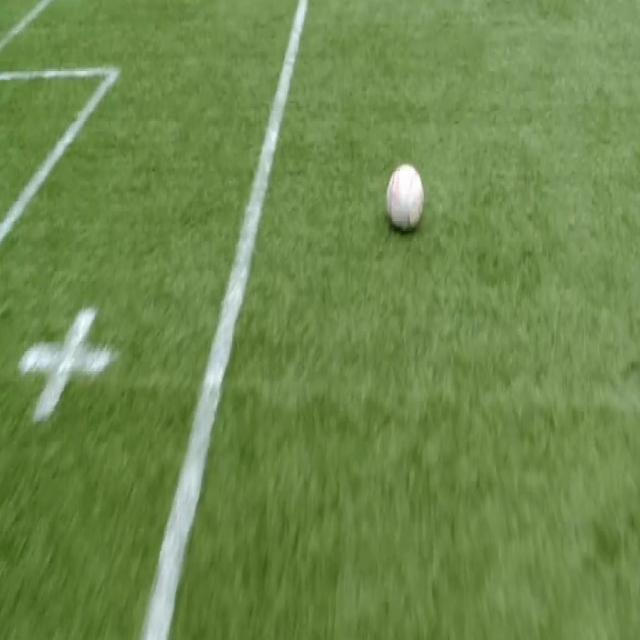ball: (386, 163, 424, 233)
